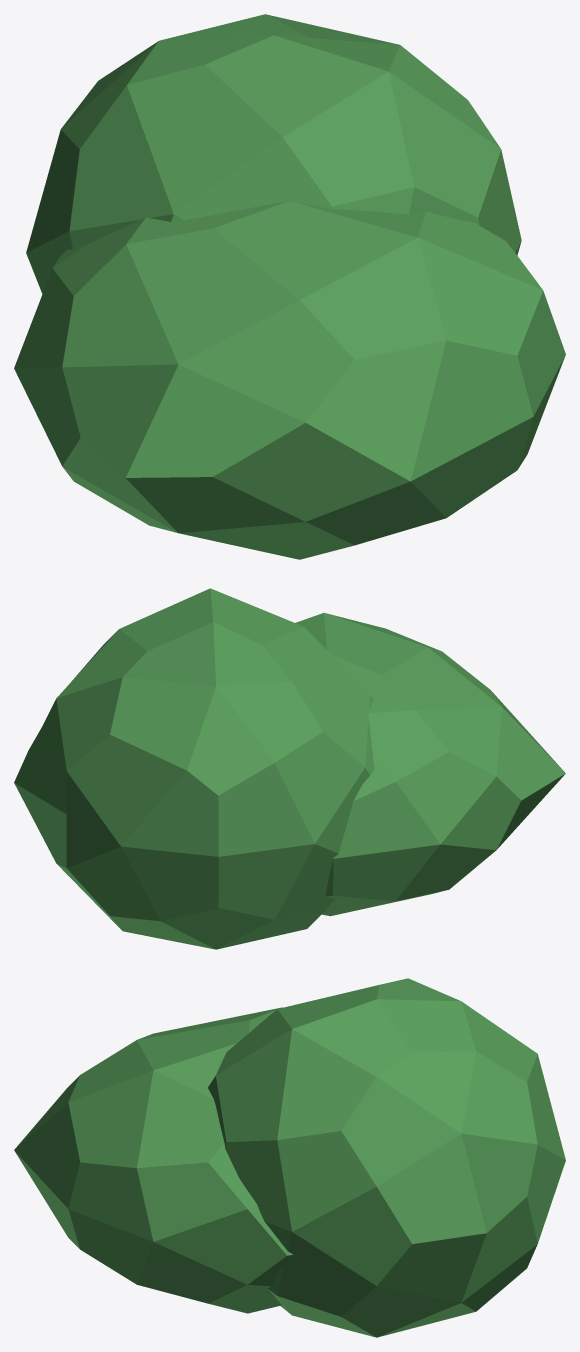
File: Shrub1.fbx
The picture shows the model from 3 angles, top to bottom: view 1: azimuth 30°, elevation 25°; view 2: azimuth 150°, elevation 25°; view 3: azimuth 270°, elevation 25°; orthographic projection. The views are drawn at different scales.
Parts seen in each view (by area): view 1: Shrub8; view 2: Shrub8; view 3: Shrub8.
Part boxes in pixels (x1,y1,x2,y2): Shrub8: [14, 14, 565, 559]; Shrub8: [14, 588, 565, 949]; Shrub8: [14, 978, 565, 1337].
Size of the model in its own units: 2.77 by 1.92 by 3.23.
